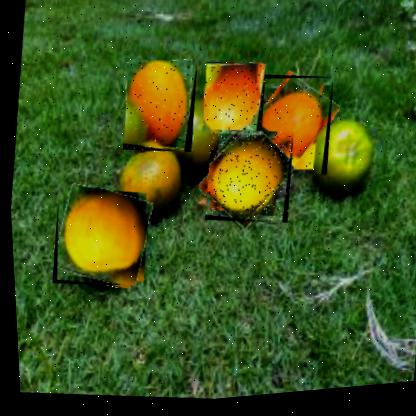orange: (43, 180, 151, 294), (236, 72, 335, 185), (196, 126, 294, 233), (115, 55, 199, 160), (195, 60, 266, 143)
